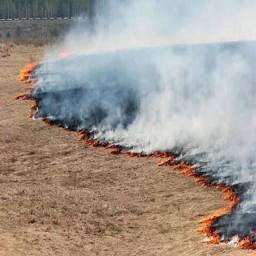Heavy smoke: (16, 0, 256, 251)
Medium fire: (14, 35, 248, 249)
